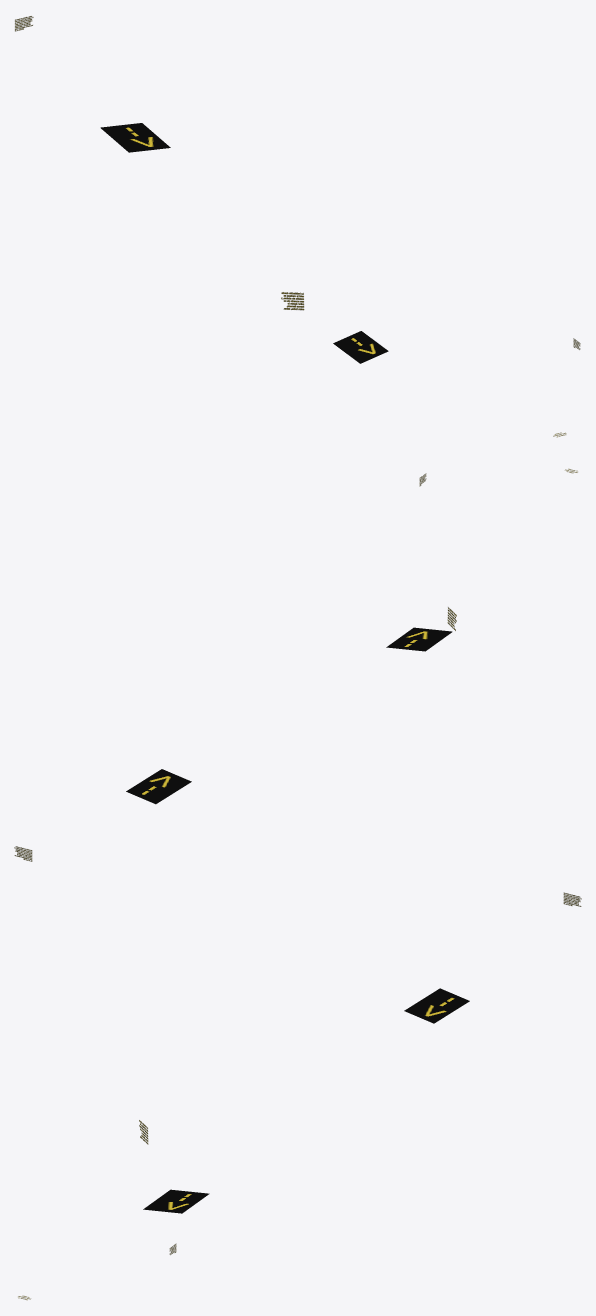
File: Mensajes.glb
3 renders of one model, top to bottom at view 1: azimuth 30°, elevation 25°; view 2: azimuth 150°, elevation 25°; view 3: azimuth 330°, elevation 25°, orthographic. The views are drawn at different scales.
Parts seen in each view (by area): view 1: Plane.002; view 2: Plane.002; view 3: Plane.002.
Boxes of the visible parts, x1,y1,x2,y2 form: Plane.002: (15, 16, 580, 437); Plane.002: (14, 468, 577, 861); Plane.002: (18, 892, 581, 1300).
Size of the model in its own units: 4.52 by 1.54 by 24.75.
Materials: 5 (5 with a texture image).
